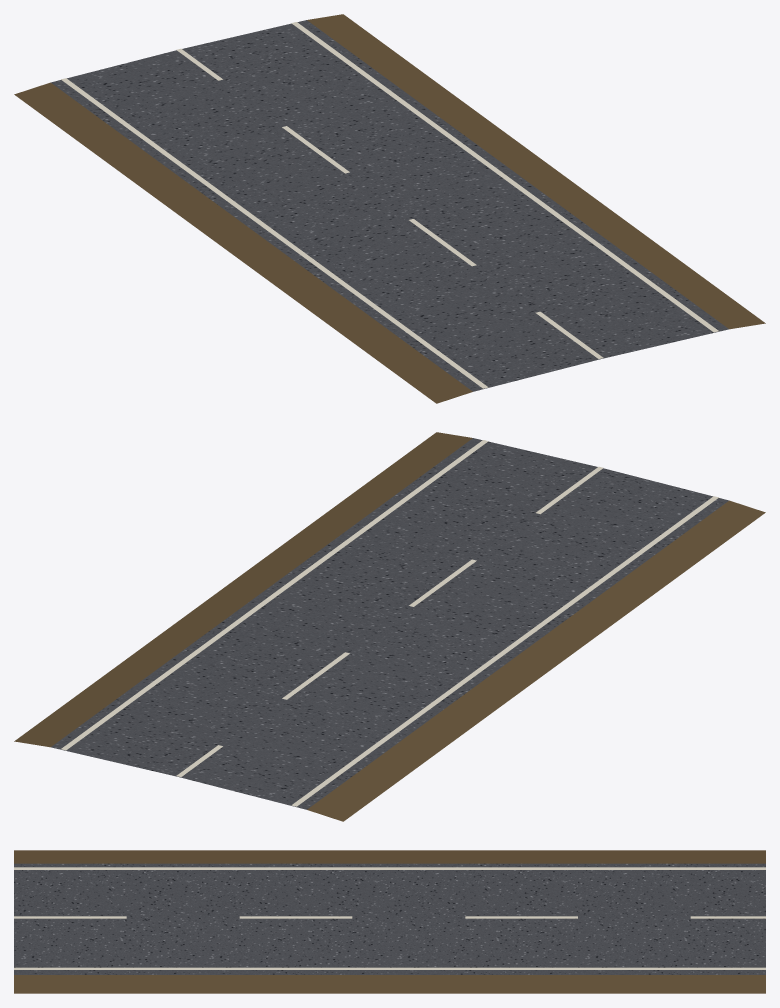
File: ENV_Road_AsphaltStraight.fbx
3 views of the same model, one above another, from view 1: azimuth 30°, elevation 25°; view 2: azimuth 150°, elevation 25°; view 3: azimuth 270°, elevation 25° (orthographic). The views are drawn at different scales.
Visible parts, largest first — view 1: ENV_Road_AsphaltStraight_Surface, ENV_Road_AsphaltStraight_Surface_Edges; view 2: ENV_Road_AsphaltStraight_Surface, ENV_Road_AsphaltStraight_Surface_Edges; view 3: ENV_Road_AsphaltStraight_Surface, ENV_Road_AsphaltStraight_Surface_Edges.
Boxes of the visible parts, x1,y1,x2,y2 form: ENV_Road_AsphaltStraight_Surface: [51, 20, 728, 391]; ENV_Road_AsphaltStraight_Surface_Edges: [14, 14, 765, 403]; ENV_Road_AsphaltStraight_Surface: [51, 438, 728, 809]; ENV_Road_AsphaltStraight_Surface_Edges: [14, 432, 765, 821]; ENV_Road_AsphaltStraight_Surface: [14, 863, 765, 974]; ENV_Road_AsphaltStraight_Surface_Edges: [14, 850, 765, 993].
Bounding box in the file's own units: 9 × 0.132 × 20.
Materials: 2 (1 with a texture image).
